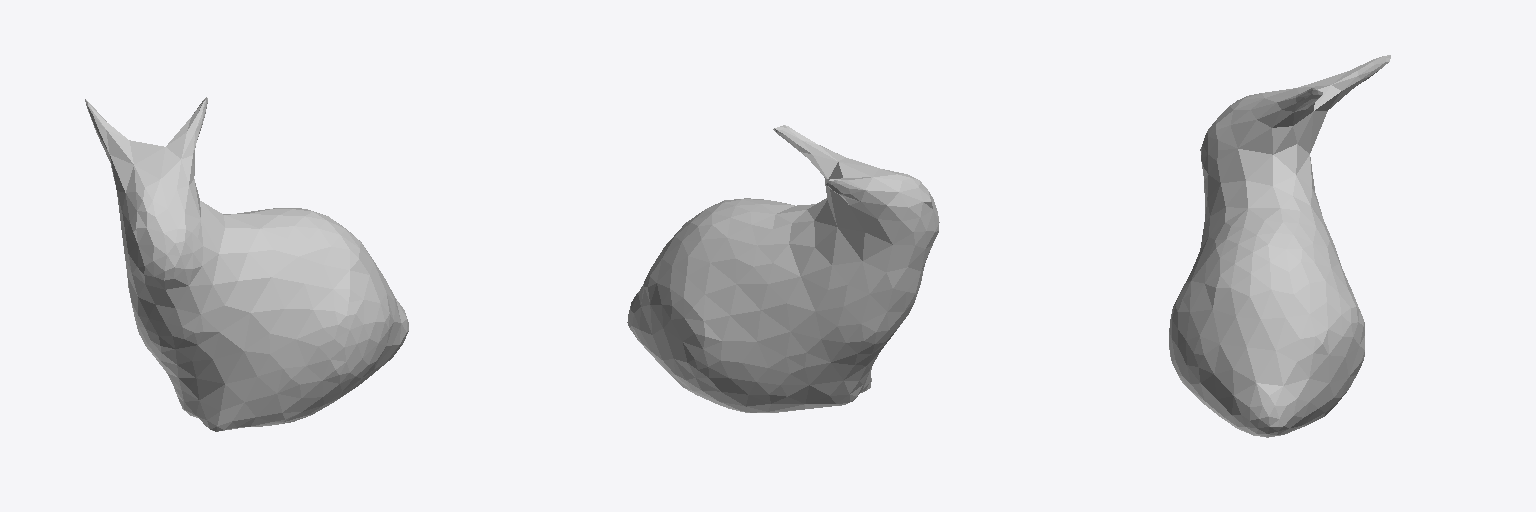
File: bunny_small_smoothed_40.obj
The picture shows the model from 3 angles: view 1: azimuth 30°, elevation 25°; view 2: azimuth 150°, elevation 25°; view 3: azimuth 270°, elevation 25°; orthographic projection.
Bounding box in the file's own units: 0.128 × 0.1299 × 0.0858.